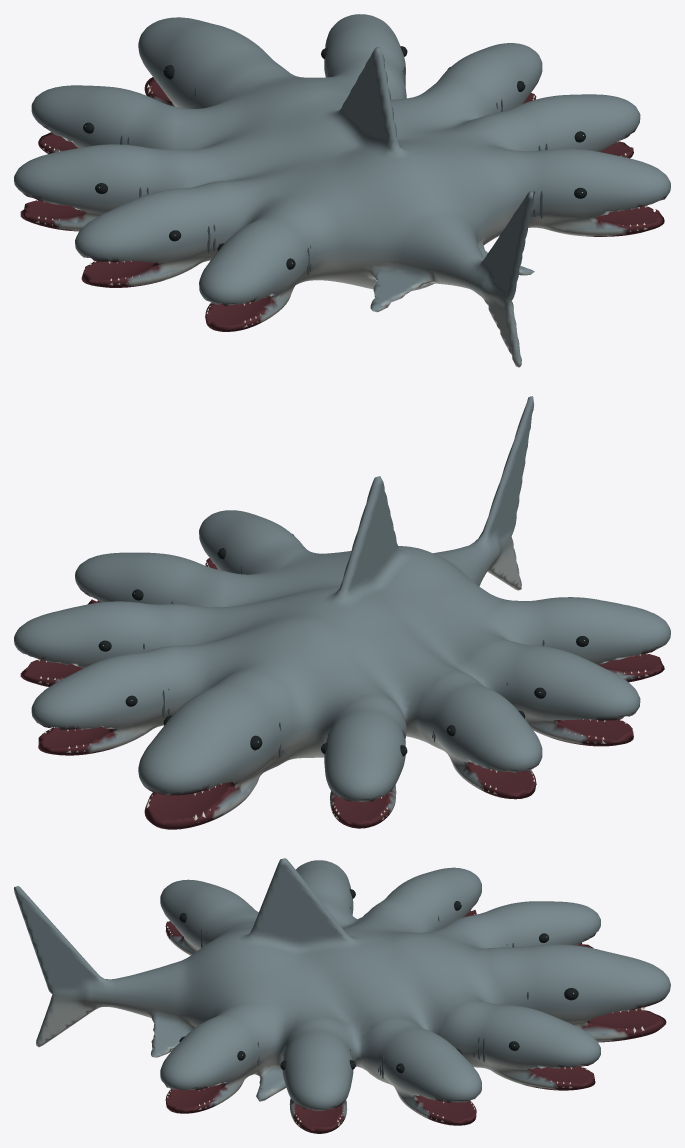
File: hydra_9.glb
3 renders of one model, top to bottom at view 1: azimuth 30°, elevation 25°; view 2: azimuth 150°, elevation 25°; view 3: azimuth 270°, elevation 25°, orthographic. The views are drawn at different scales.
Parts seen in each view (by area): view 1: UnifiedHydra; view 2: UnifiedHydra; view 3: UnifiedHydra.
Boxes of the visible parts, x1,y1,x2,y2 form: UnifiedHydra: (14,14,670,367); UnifiedHydra: (14,396,670,829); UnifiedHydra: (14,858,670,1133).
Size of the model in its own units: 3.83 by 1.46 by 4.48.
